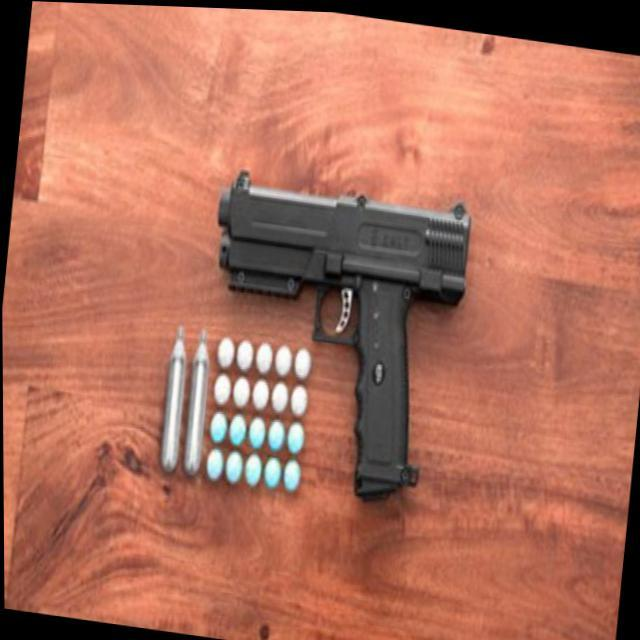weapon: (189, 159, 476, 508)
